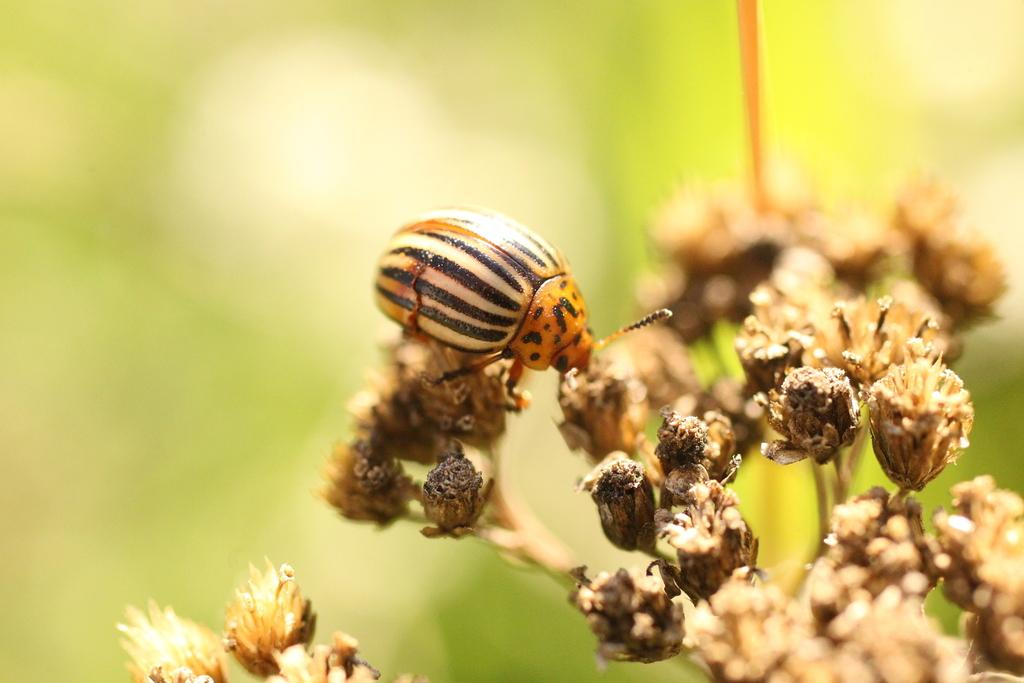potato_beetle: (327, 146, 701, 433)
